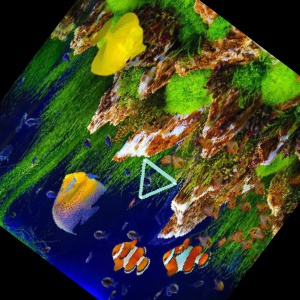triangle: (136, 155, 178, 201)
